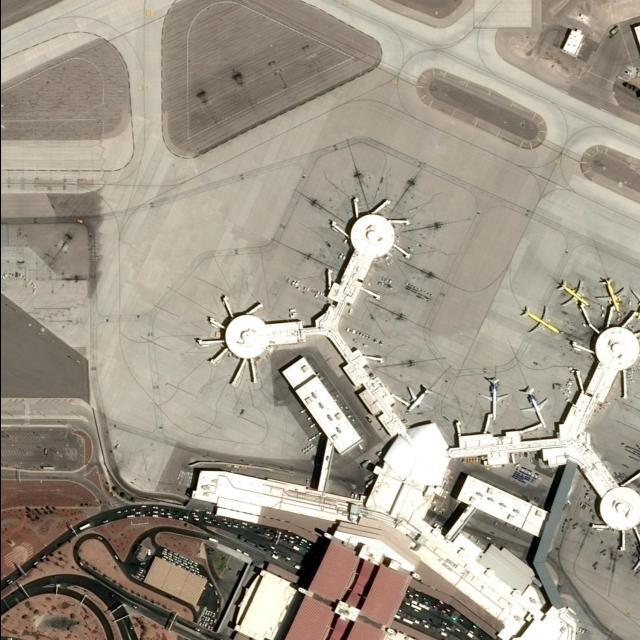Aircraft: (478, 376, 506, 420), (518, 387, 548, 427), (519, 305, 560, 334), (594, 276, 624, 312), (555, 279, 589, 309), (402, 383, 432, 413), (629, 280, 640, 320), (630, 545, 640, 575)
